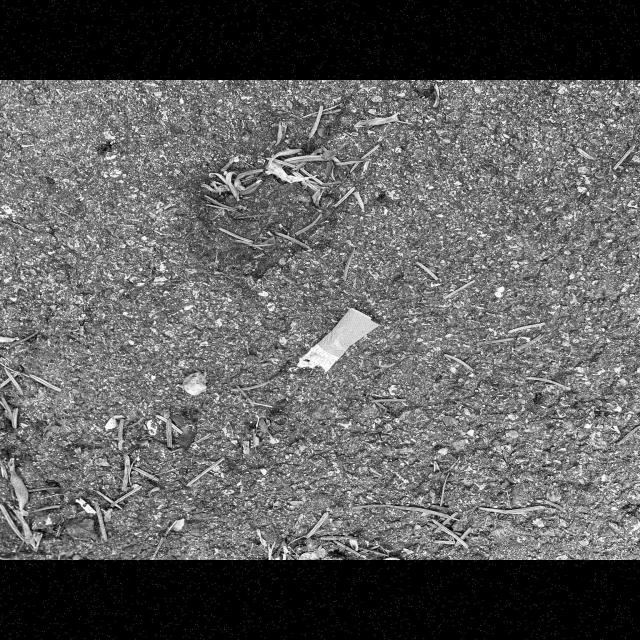other waste: (296, 307, 380, 373)
